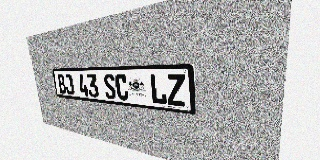3: (86, 74, 99, 98)
4: (78, 74, 89, 97)
B: (57, 74, 67, 94)
C: (114, 74, 129, 101)
J: (64, 74, 75, 95)
L: (149, 74, 167, 105)
S: (103, 74, 117, 100)
Z: (166, 74, 186, 107)
